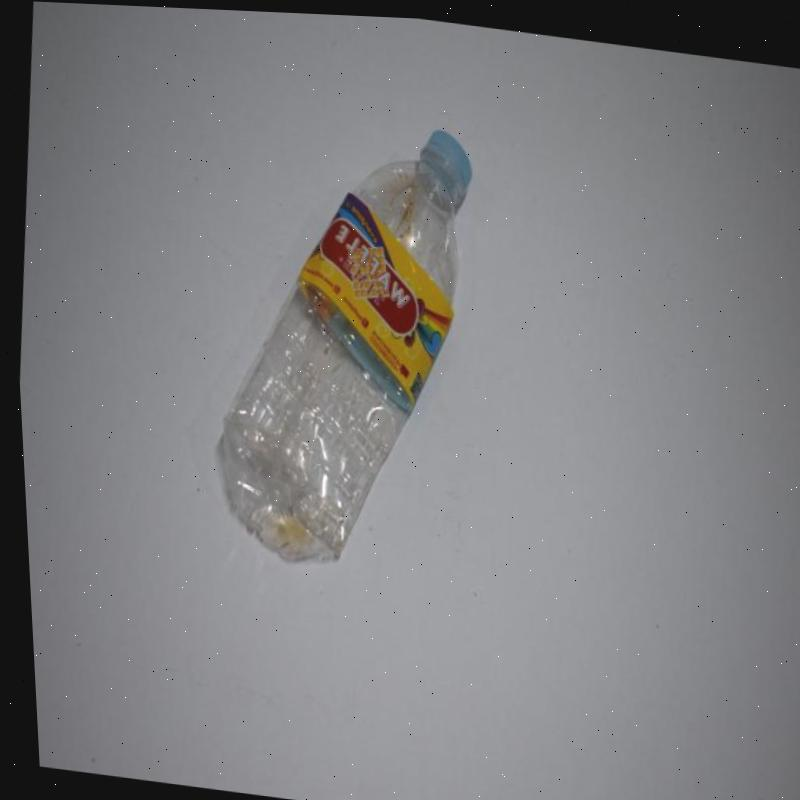botella: (191, 98, 490, 582)
